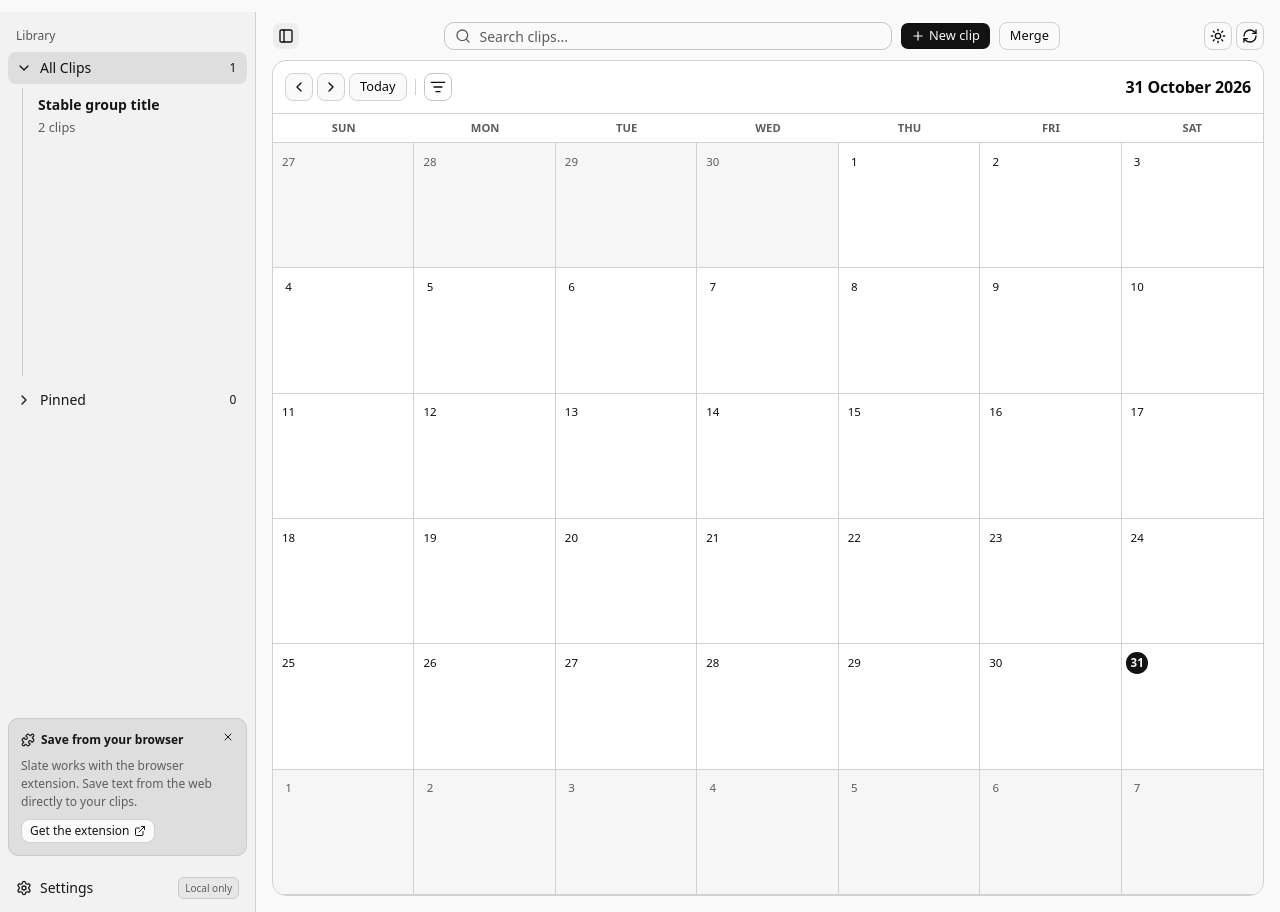
Test: switching members waits for one save and cleanup before acquiring the next lease
Step 1. Click the button "Stable group title 2 clips" → click(138, 116), box [29, 88, 247, 144]
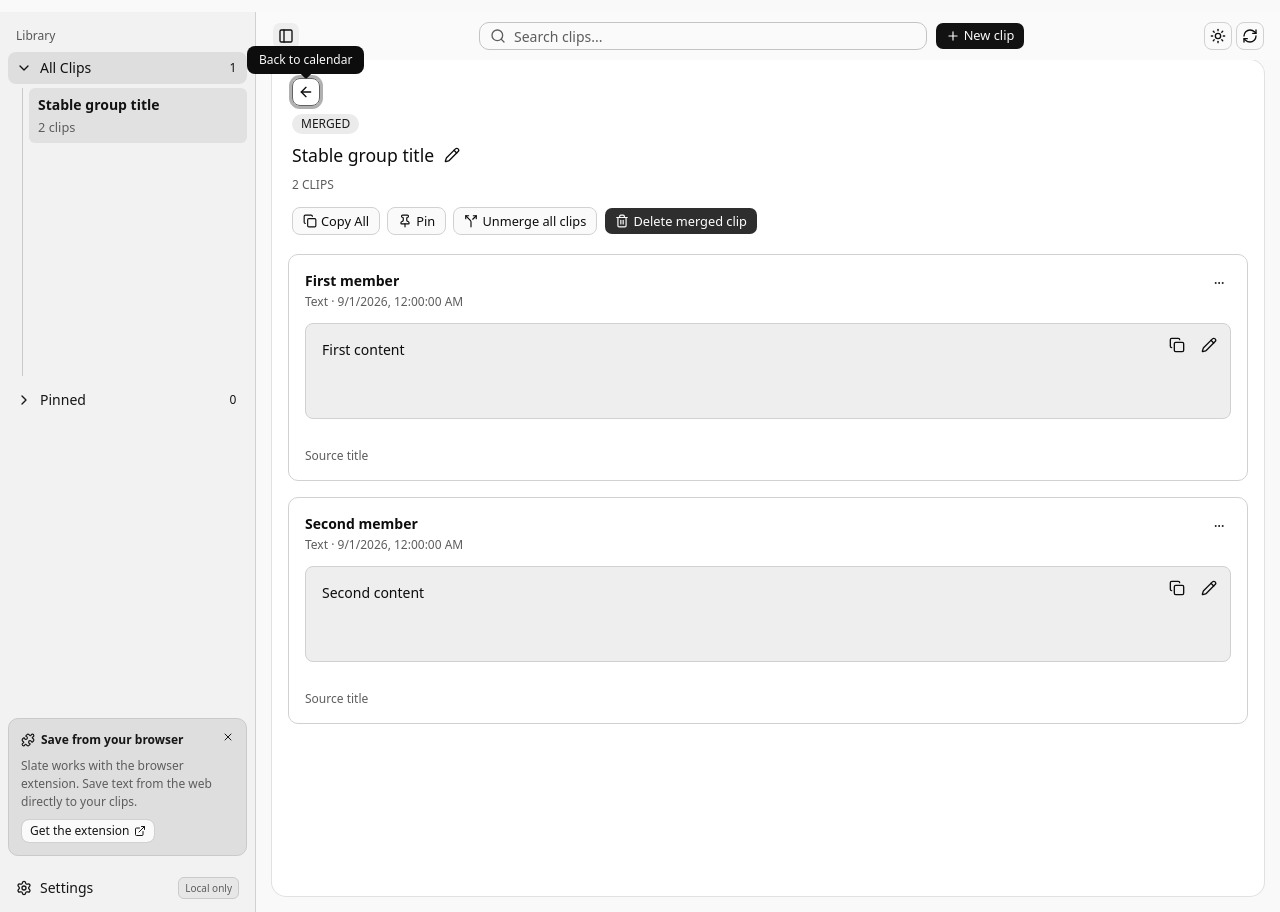
Check: the heading "Stable group title" is shown, box [292, 143, 434, 167]
Step 2. Click the button named "Edit content: First member" → click(1209, 345), box [1195, 331, 1223, 359]
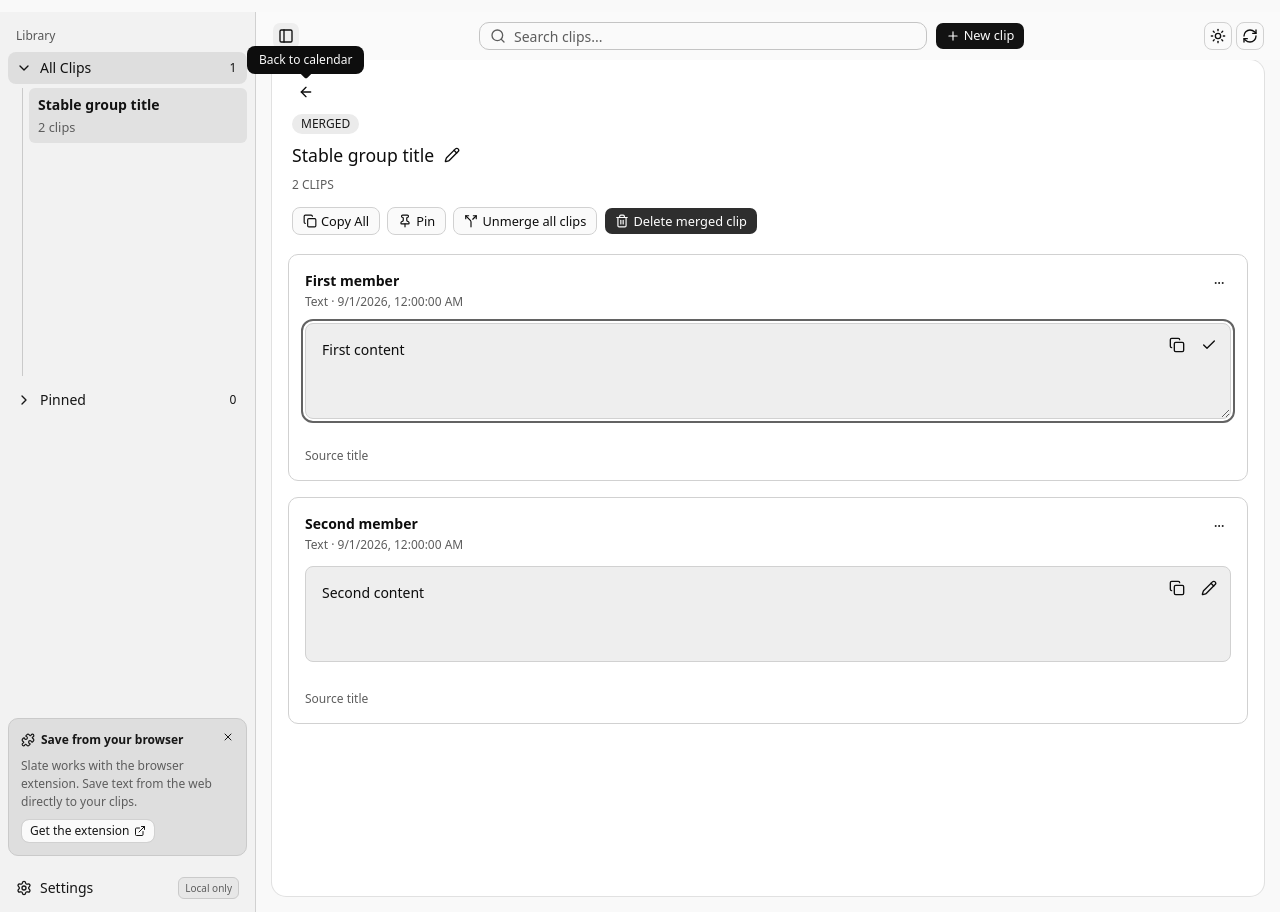
Step 3. Replace the text in the text box named "Clip content: First member" with "Edited member content" → (768, 371), box [305, 323, 1231, 419]
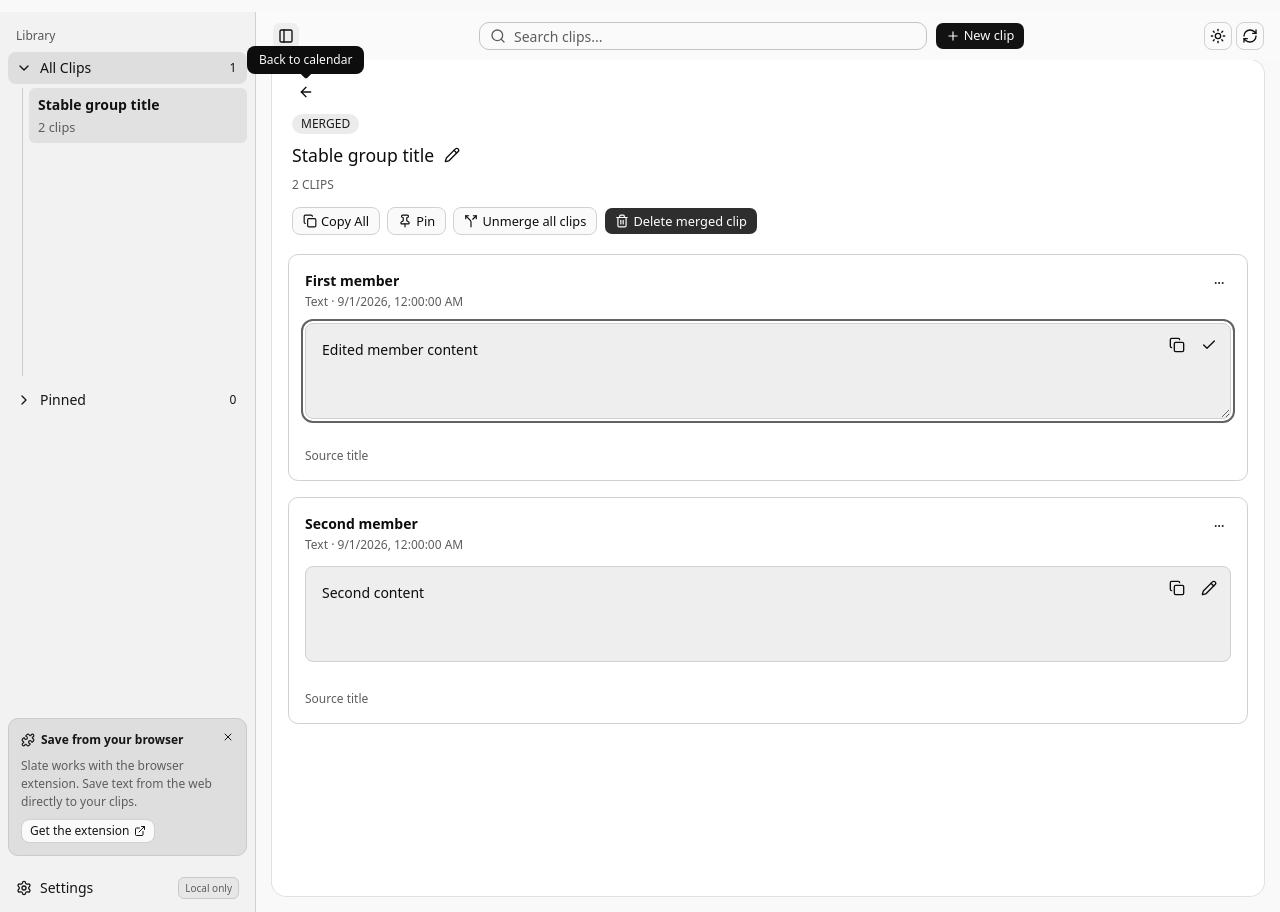
Step 4. Click the button named "Edit content: Second member" → click(1209, 588), box [1195, 574, 1223, 602]
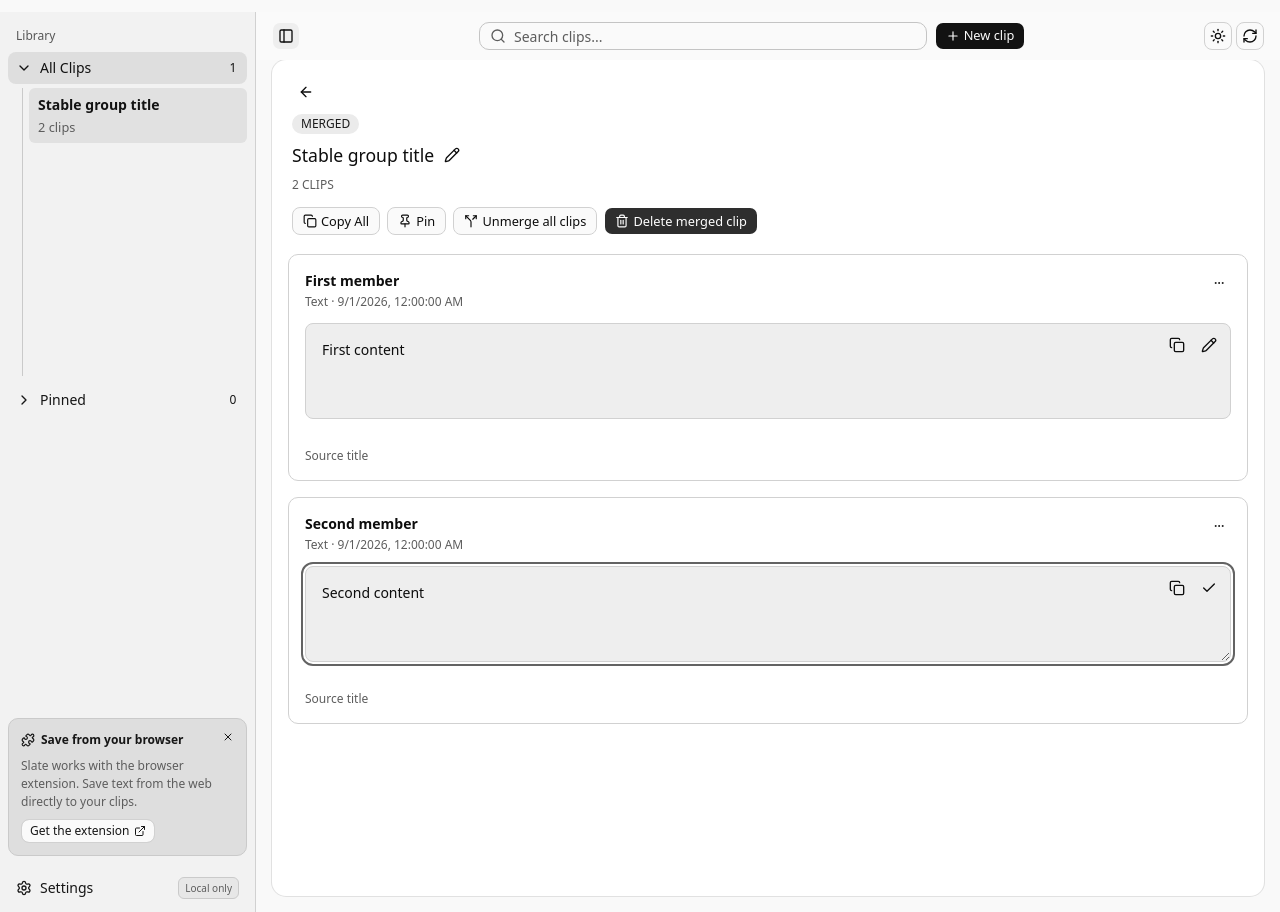
Check: the text box named "Clip content: Second member" is shown, box [305, 566, 1231, 662]
